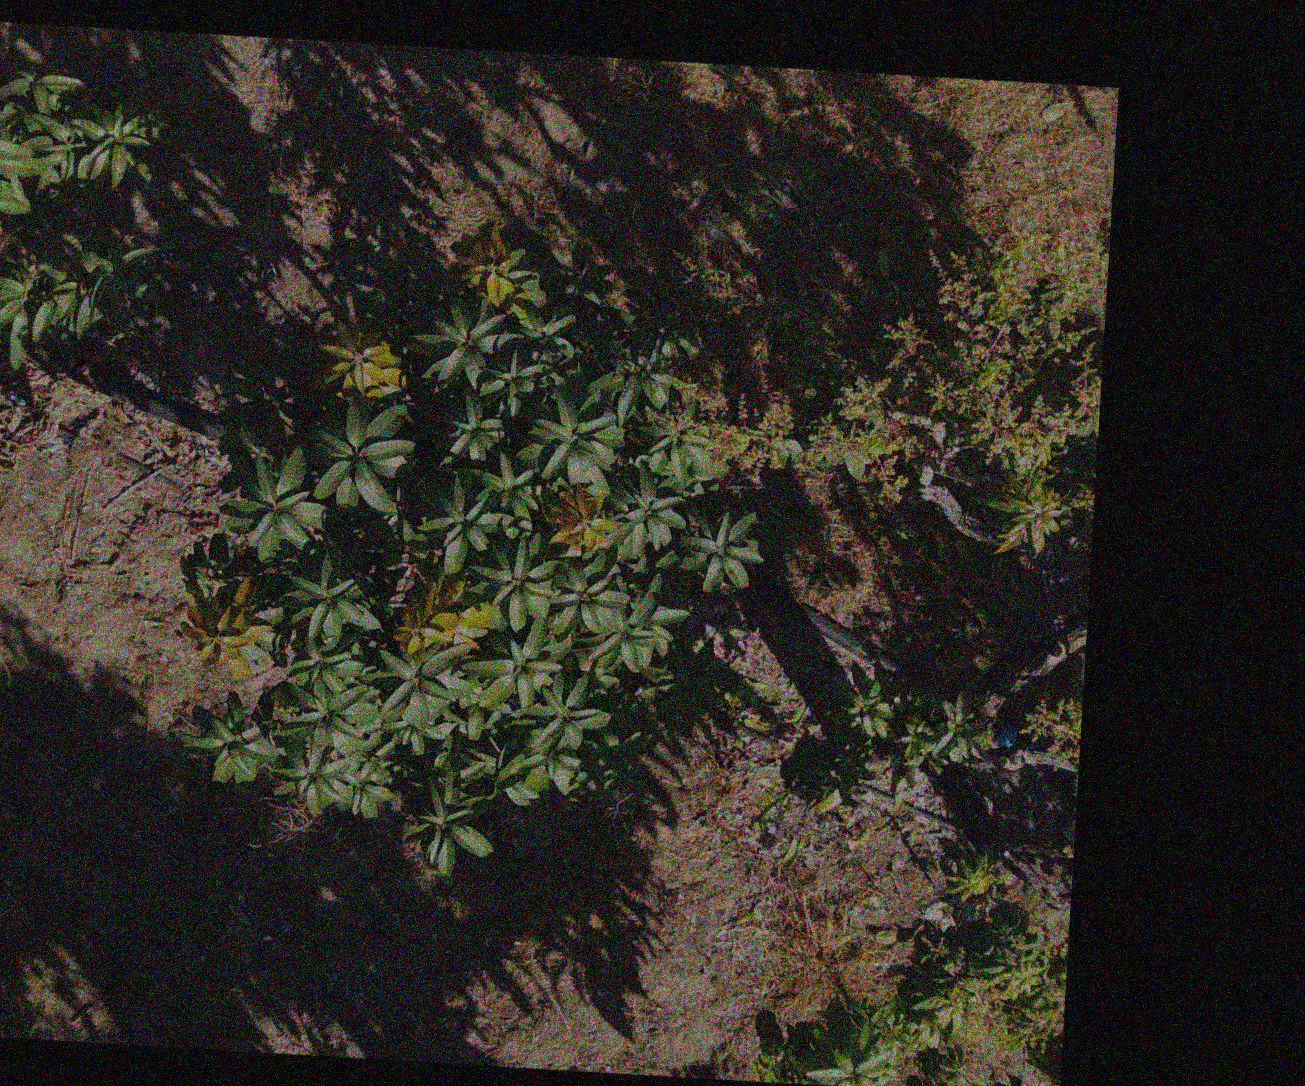flowers: (928, 250, 1101, 465), (897, 900, 1065, 1046), (804, 414, 916, 499), (647, 362, 726, 442), (1020, 691, 1078, 796), (727, 391, 794, 481), (835, 374, 887, 428), (1061, 276, 1104, 329), (883, 312, 923, 369), (746, 329, 773, 389)
